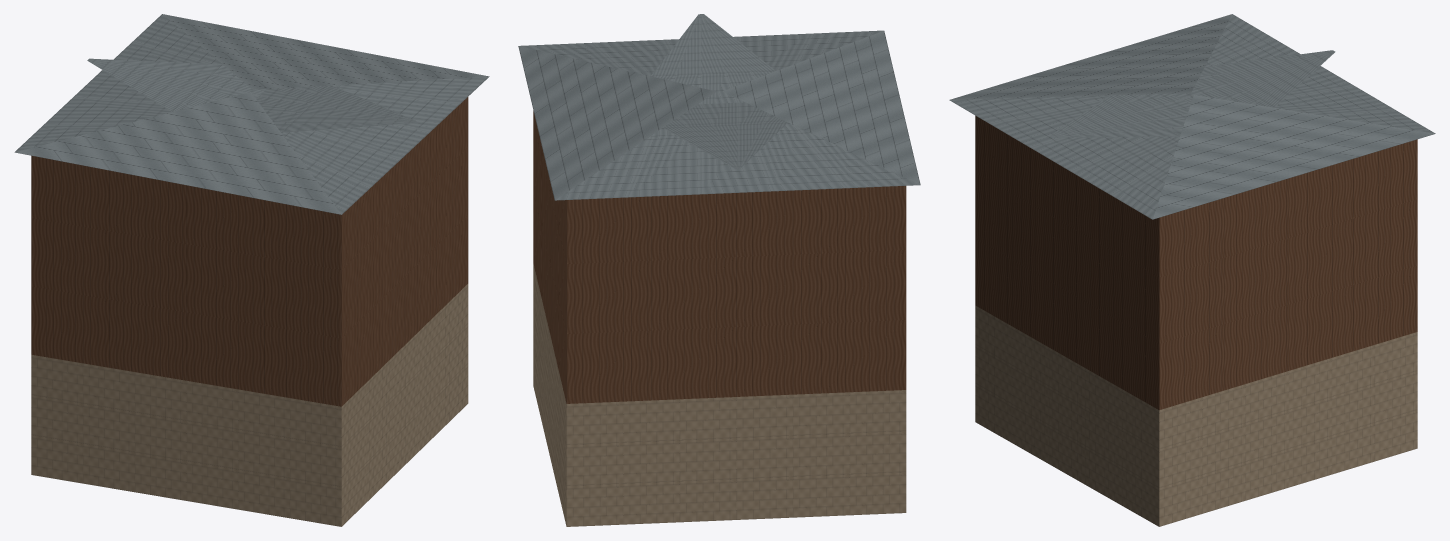
Rendered from bld_c8_17_436.gltf.
3 renders of one model, left to right at view 1: azimuth 30°, elevation 25°; view 2: azimuth 150°, elevation 25°; view 3: azimuth 270°, elevation 25°, orthographic. The views are drawn at different scales.
Visible parts, largest first — view 1: bld_c8_17_436; view 2: bld_c8_17_436; view 3: bld_c8_17_436.
Part boxes in pixels (x1,y1,x2,y2): bld_c8_17_436: (14, 14, 489, 526); bld_c8_17_436: (518, 14, 920, 526); bld_c8_17_436: (949, 14, 1435, 526).
Size of the model in its own units: 19.29 by 14.8 by 19.29.
3 materials, 3 textured.
